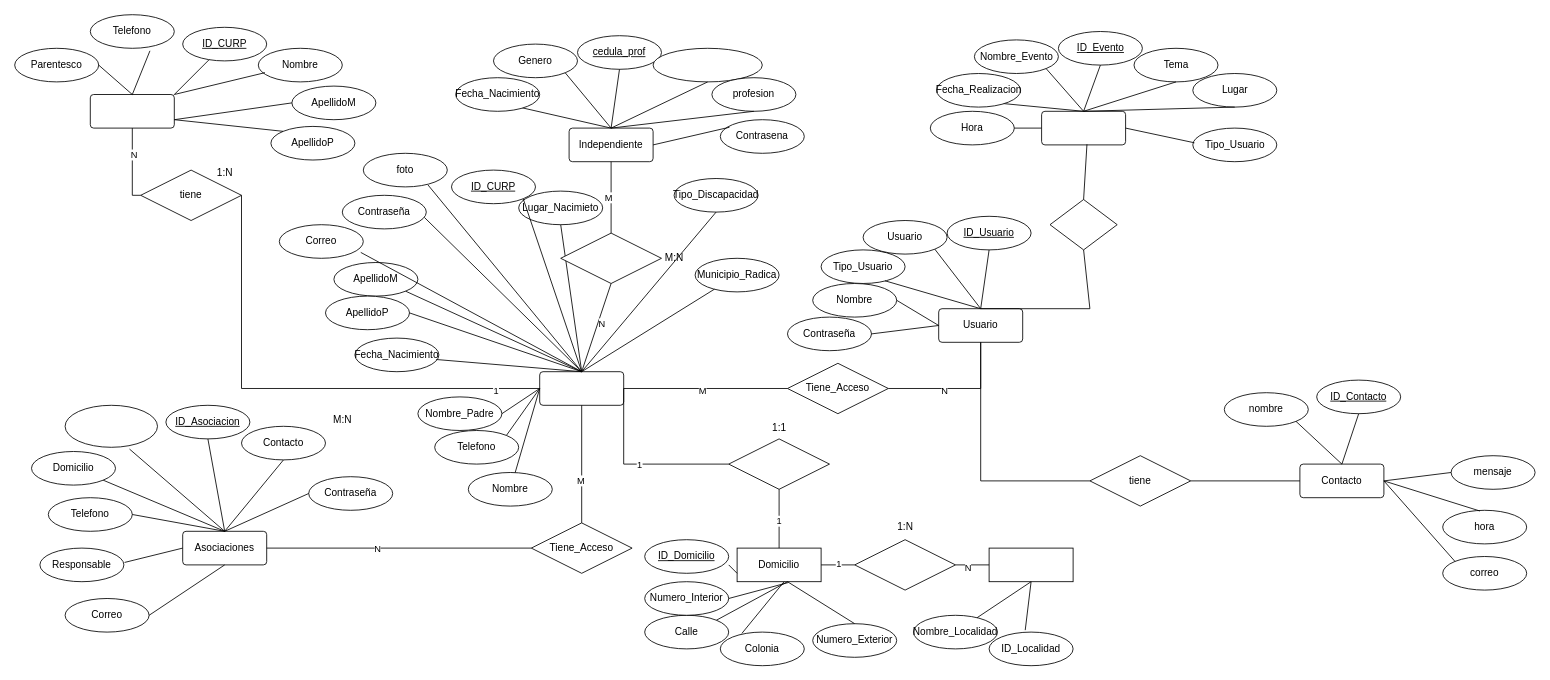
Some shapes in this 1550 by 680 pixel diagram are drawn without their labels. The shapes that lost their labels are listed below. From the top down, each one's centre as x and y in pixels, then its label:
(707,64): Nombre_Independiente
(131,111): Tutor
(1083,127): Evento
(1083,224): Realiza
(611,258): Accesa
(581,388): Padrón
(111,425): Nombre_Asociacion
(779,463): Vive_En
(905,564): Pertenece
(1030,564): Localidad
